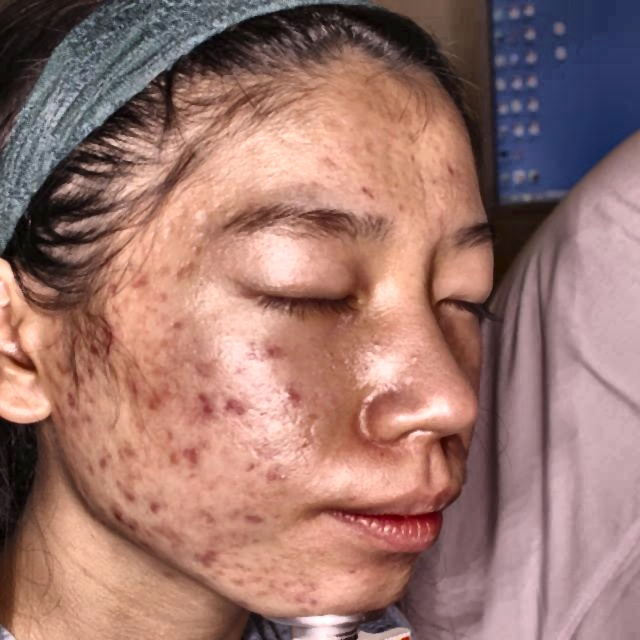papule: (140, 375, 173, 424), (182, 443, 221, 478), (347, 180, 387, 214), (190, 383, 222, 422), (224, 379, 248, 425), (259, 459, 287, 492), (92, 442, 118, 477), (124, 265, 160, 290), (292, 587, 328, 611), (429, 152, 457, 182), (234, 509, 272, 530), (152, 523, 184, 547), (123, 376, 147, 406), (95, 319, 123, 344), (117, 471, 138, 502), (200, 539, 222, 568), (141, 493, 167, 515), (264, 334, 287, 358), (77, 360, 103, 381), (58, 387, 78, 414), (276, 387, 301, 408), (164, 450, 190, 470), (123, 514, 147, 534), (109, 500, 131, 520), (118, 445, 140, 461), (109, 279, 122, 303), (82, 406, 95, 430)
